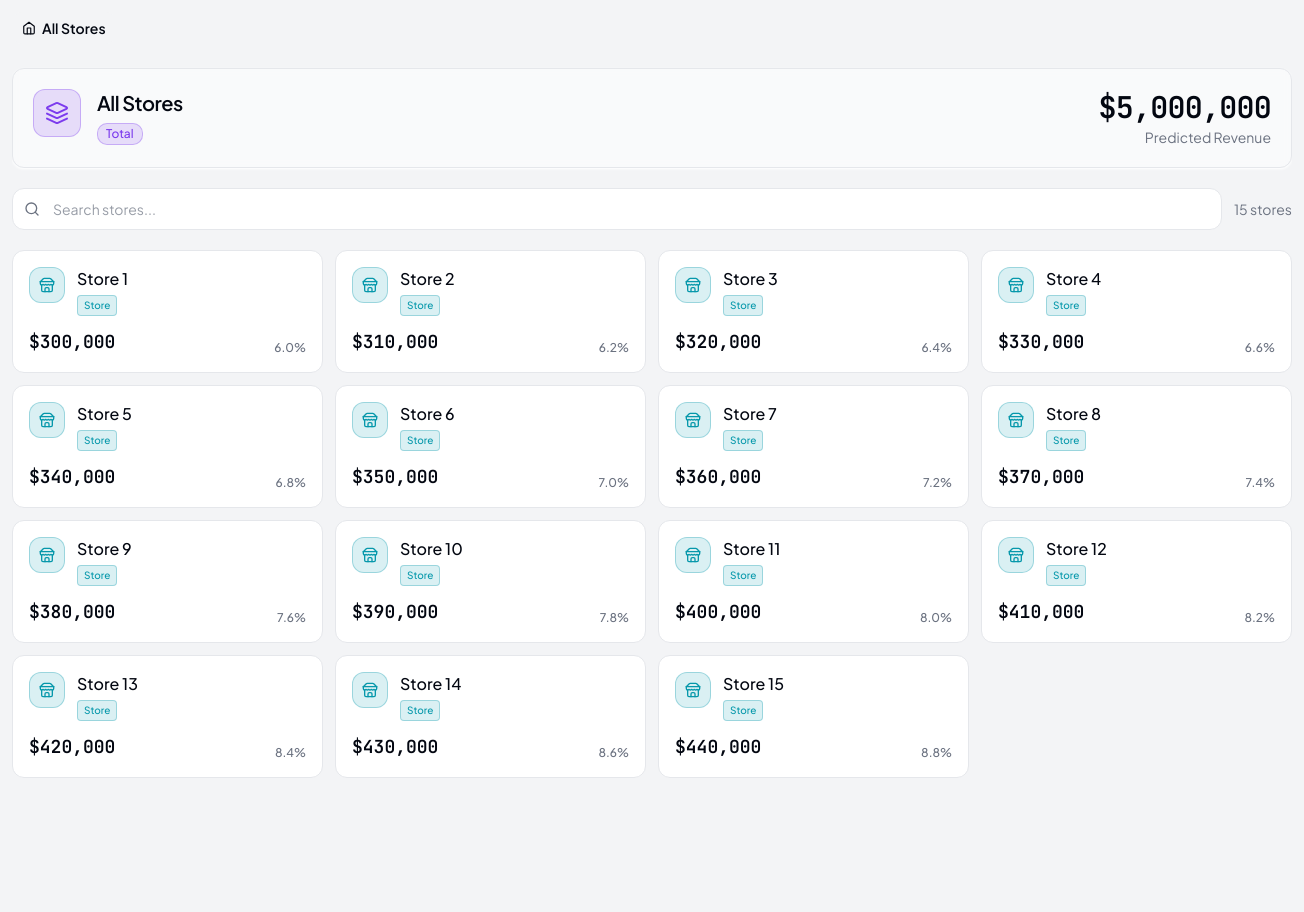
Test: HierarchyDrilldown › Search Functionality › shows clear button when search has text
Type "test" into the field with placeholder "Search stores...".
click(617, 209); type("test")  # box [12,188,1222,230]
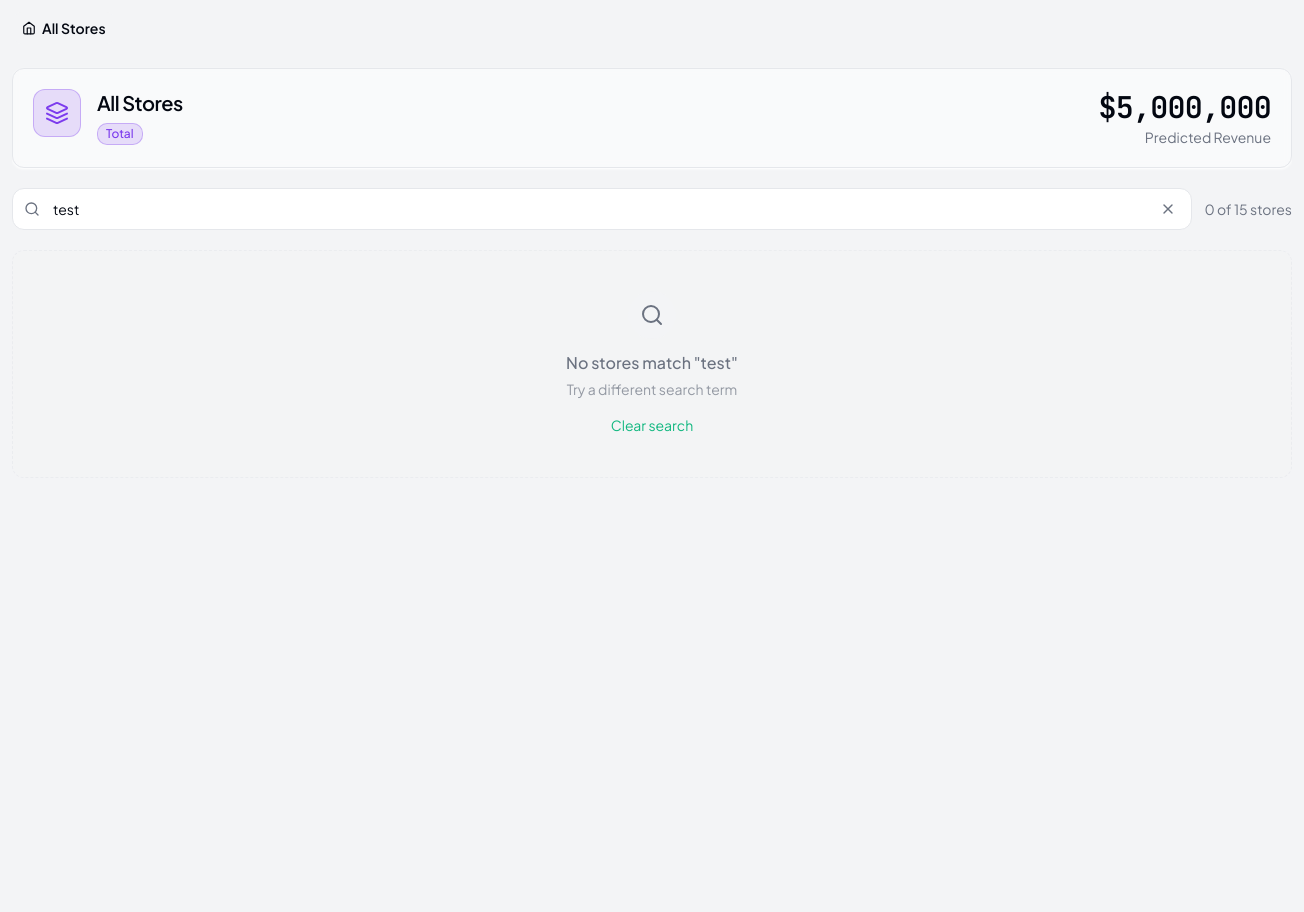
Expected: the 2nd button is shown, [1156,197,1180,221]
